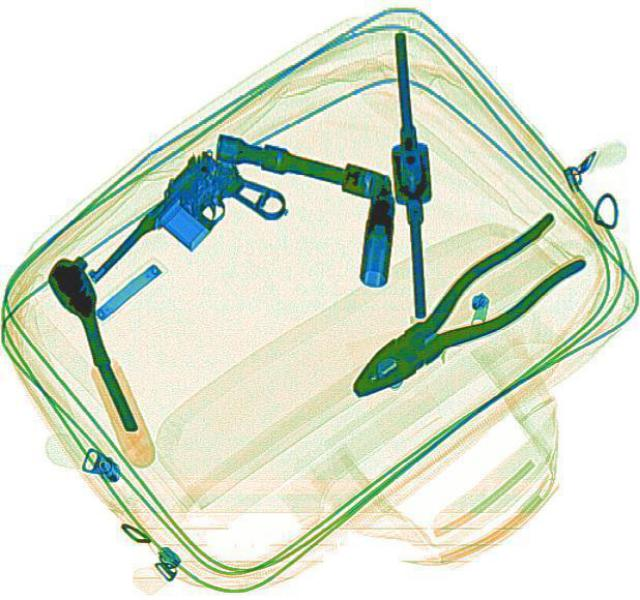Gun: (80, 138, 292, 331)
Pliers: (328, 206, 596, 418)
